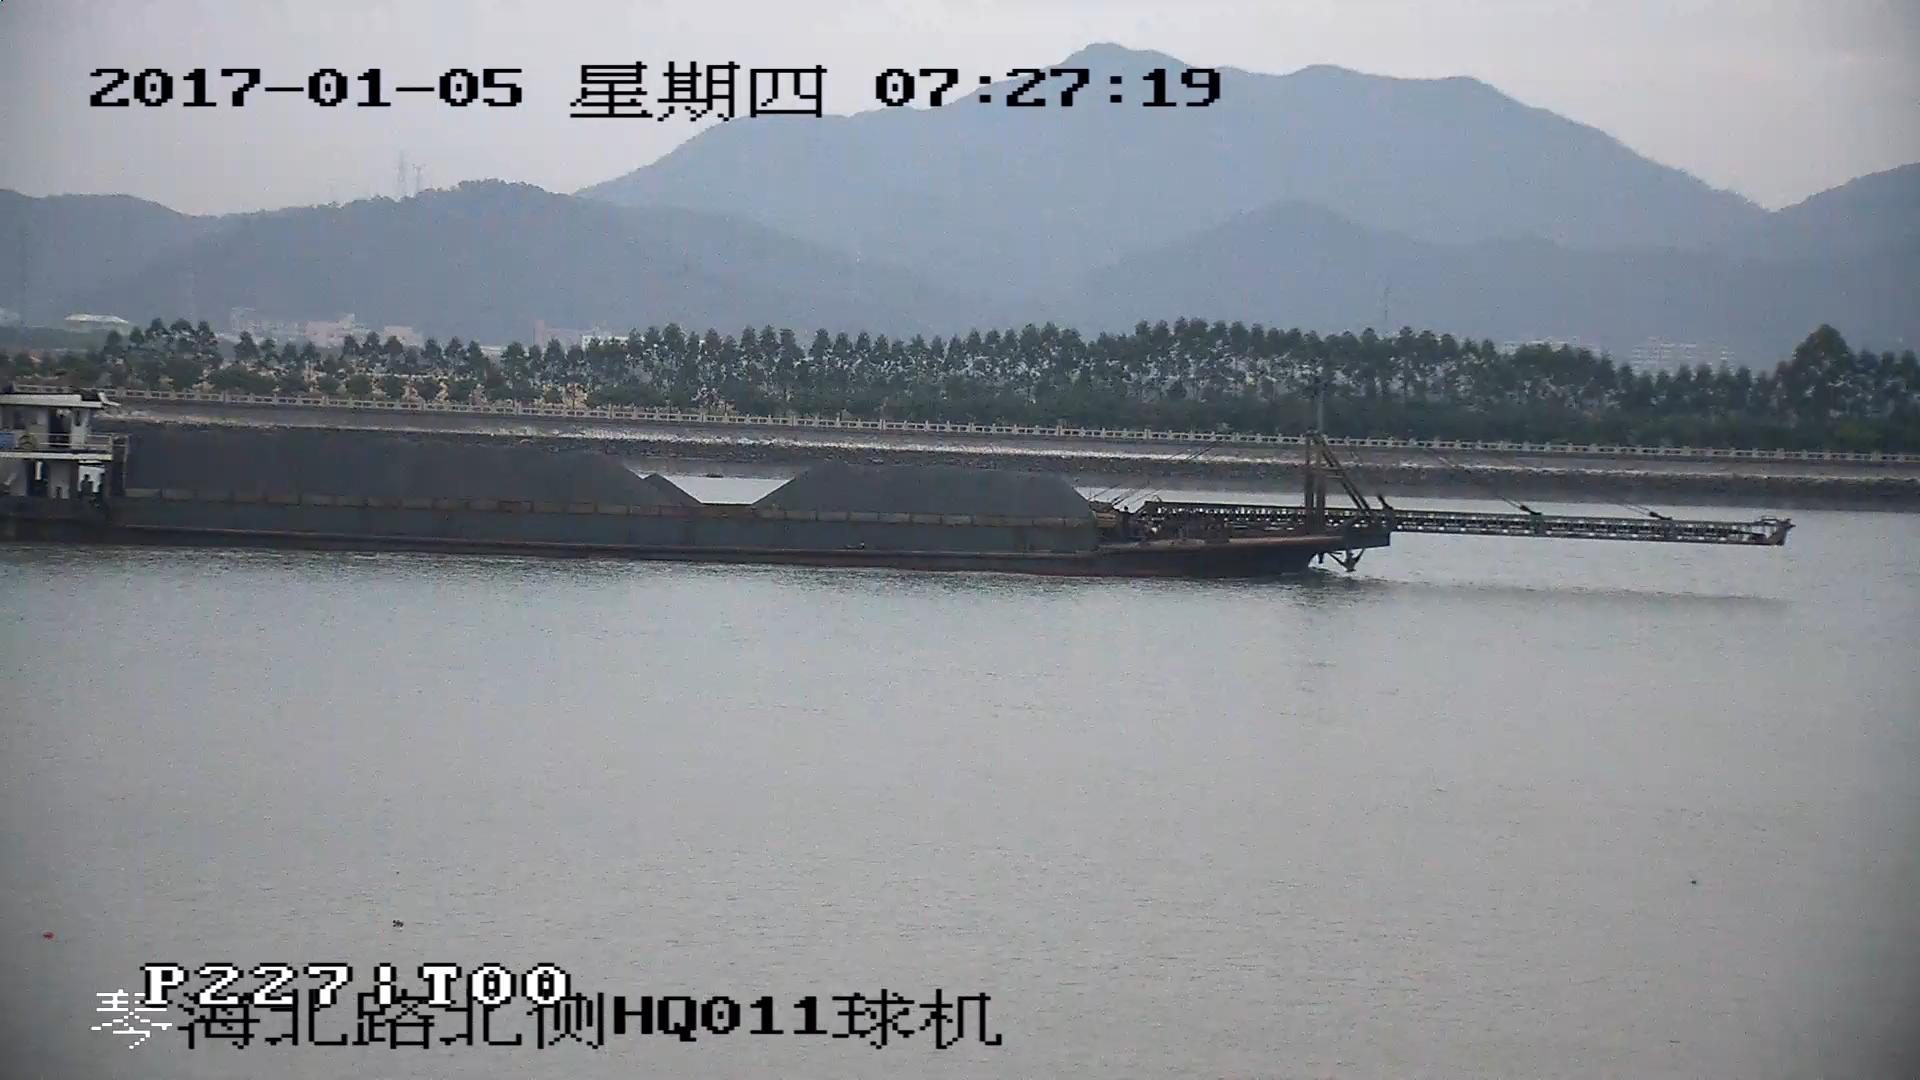ore carrier: (1, 386, 1784, 572)
